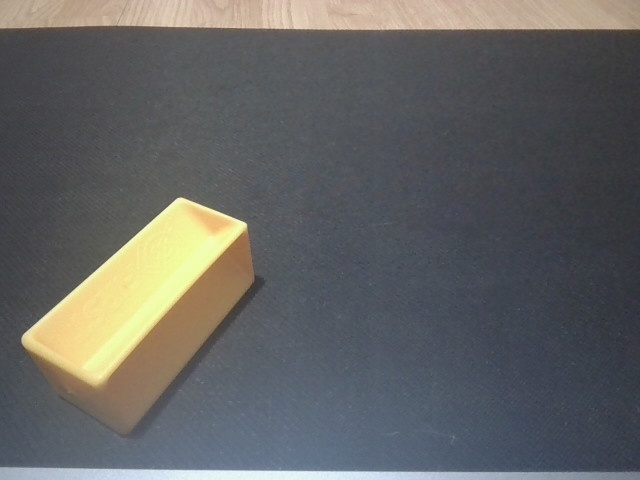YellowSample: (13, 192, 263, 440)
